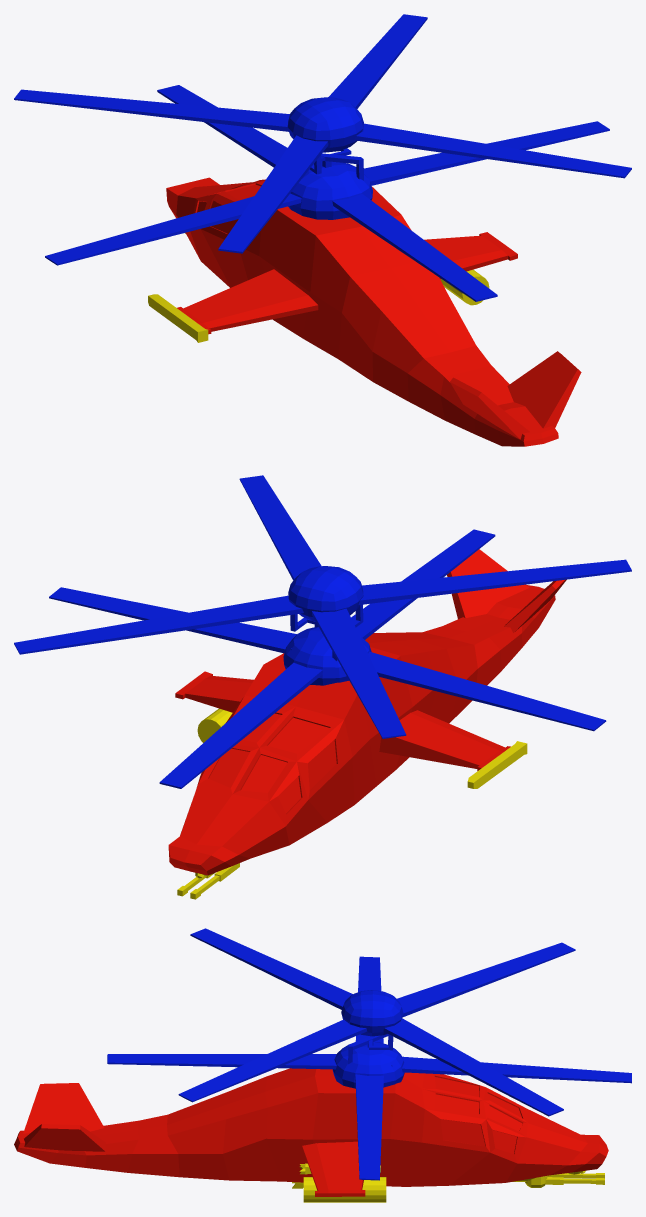
File: copter.fbx
The picture shows the model from 3 angles, top to bottom: view 1: azimuth 30°, elevation 25°; view 2: azimuth 150°, elevation 25°; view 3: azimuth 270°, elevation 25°; orthographic projection. The views are drawn at different scales.
Visible parts, largest first — view 1: корпус, инверсионный_винт, рулевой_винт, крыло1, хвост2, радар, установка_винта, крыло2, хвост1, ракета_1, кабина; view 2: корпус, инверсионный_винт, рулевой_винт, кабина, glass, крыло1, радар, хвост2, установка_винта, крыло2, ракета_1, хвост1 (+1 smaller); view 3: корпус, инверсионный_винт, рулевой_винт, кабина, glass, крыло2, хвост1, установка_винта, радар, хвост2, пусковая_установка.
Part boxes in pixels (<box>): корпус: <box>166,177,558,446</box>; инверсионный_винт: <box>14,14,631,253</box>; рулевой_винт: <box>45,85,609,301</box>; крыло1: <box>177,269,318,334</box>; хвост2: <box>507,351,581,428</box>; радар: <box>287,97,363,152</box>; установка_винта: <box>288,161,372,219</box>; крыло2: <box>424,232,517,278</box>; хвост1: <box>450,377,529,439</box>; ракета_1: <box>148,294,208,342</box>; кабина: <box>193,179,265,239</box>; корпус: <box>168,585,555,875</box>; инверсионный_винт: <box>14,475,631,738</box>; рулевой_винт: <box>49,529,606,788</box>; кабина: <box>196,695,352,825</box>; glass: <box>209,713,336,813</box>; крыло1: <box>379,710,510,770</box>; радар: <box>288,566,363,620</box>; хвост2: <box>447,549,529,618</box>; установка_винта: <box>283,627,371,685</box>; крыло2: <box>175,671,253,712</box>; ракета_1: <box>467,741,527,788</box>; хвост1: <box>504,579,566,632</box>; корпус: <box>14,1068,608,1186</box>; инверсионный_винт: <box>178,928,575,1116</box>; рулевой_винт: <box>107,956,631,1180</box>; кабина: <box>422,1073,527,1163</box>; glass: <box>434,1077,522,1153</box>; крыло2: <box>302,1141,365,1196</box>; хвост1: <box>23,1083,104,1133</box>; установка_винта: <box>332,1041,404,1088</box>; радар: <box>341,990,403,1036</box>; хвост2: <box>24,1124,105,1151</box>; пусковая_установка: <box>303,1177,386,1202</box>.
Bounding box in the file's own units: 1270 × 527 × 1495.
